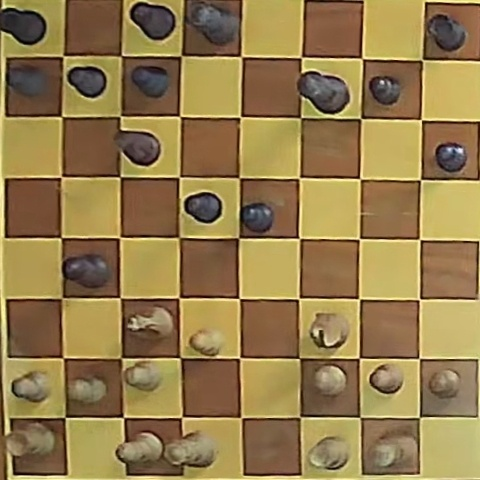black-bishop: (130, 2, 175, 41), (63, 254, 110, 288)
black-king: (298, 72, 349, 113)
black-knight: (114, 131, 160, 166)
black-pawn: (7, 64, 47, 97), (67, 66, 107, 98), (131, 66, 169, 98), (184, 192, 222, 223), (241, 202, 274, 232), (435, 142, 466, 172), (369, 76, 401, 105)
black-queen: (186, 1, 239, 45)
black-rook: (0, 7, 47, 46), (427, 13, 467, 52)
white-bishop: (117, 432, 164, 464)
white-king: (368, 431, 417, 469)
white-knight: (126, 306, 173, 338), (309, 313, 347, 348)
white-pawn: (12, 370, 50, 402), (68, 376, 108, 404), (125, 361, 162, 391), (369, 363, 404, 394), (313, 365, 347, 395), (189, 328, 224, 355), (429, 369, 461, 398)
white-queen: (164, 430, 217, 467)
white-rook: (6, 422, 56, 457), (308, 436, 350, 470)
